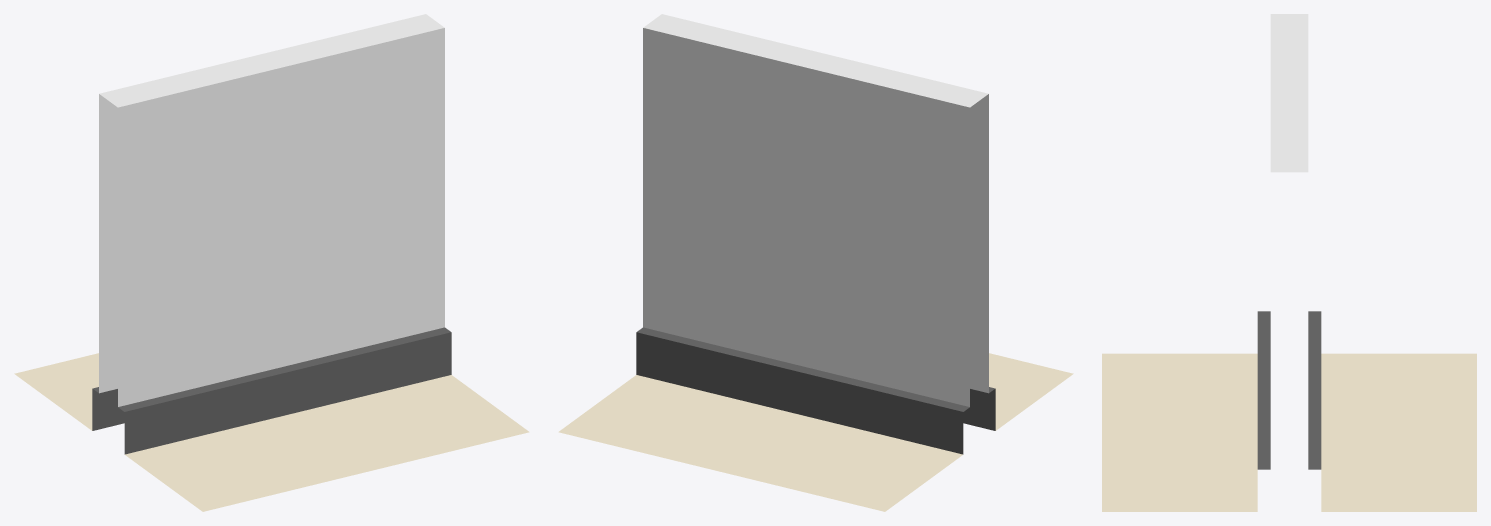
Rendered from I_Wall_Straight.fbx.
3 renders of one model, left to right at view 1: azimuth 30°, elevation 25°; view 2: azimuth 150°, elevation 25°; view 3: azimuth 270°, elevation 25°, orthographic.
Visible parts, largest first — view 1: I_Wall_Straight; view 2: I_Wall_Straight; view 3: I_Wall_Straight.
Part boxes in pixels (<box>): I_Wall_Straight: <box>14,14,529,511</box>; I_Wall_Straight: <box>558,14,1073,511</box>; I_Wall_Straight: <box>1102,14,1476,511</box>.
Bounding box in the file's own units: 200 × 200 × 200.
